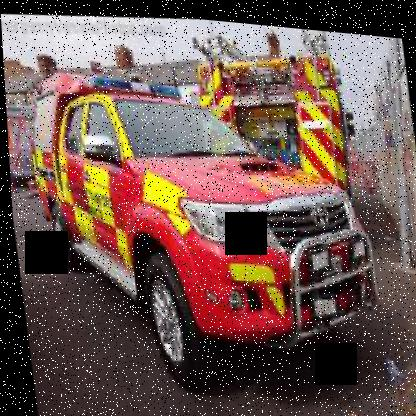emergency: (25, 44, 381, 383)
